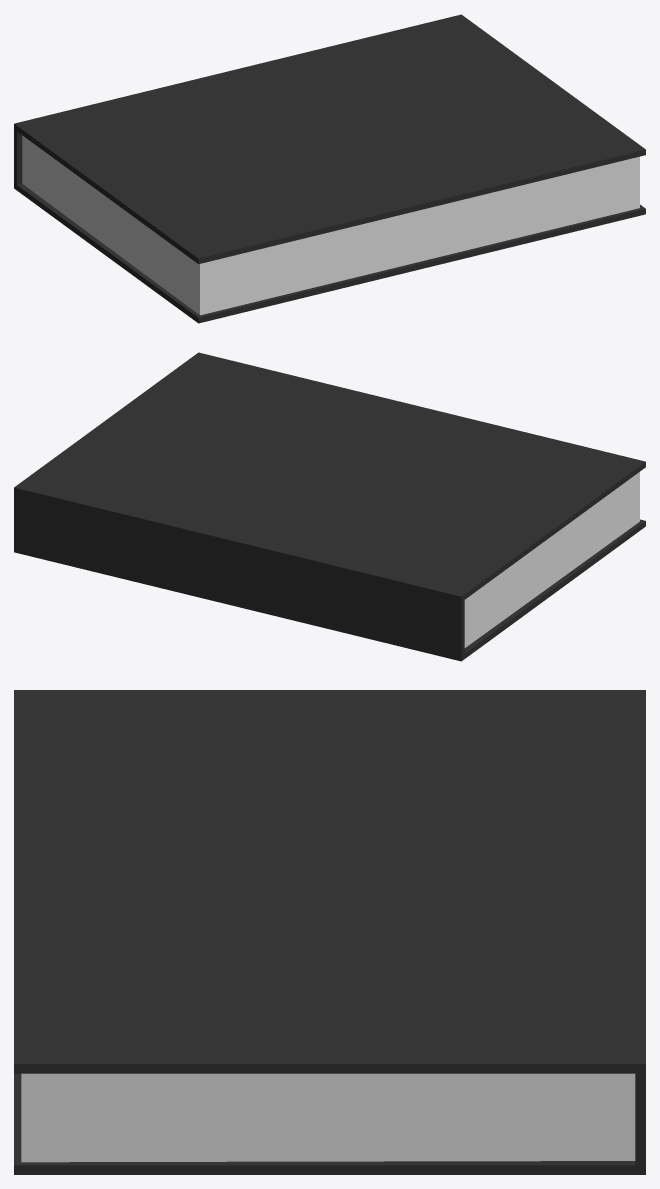
Rendered from ThrowProp_BookMediumGrey.FBX.
3 views of the same model, one above another, from view 1: azimuth 30°, elevation 25°; view 2: azimuth 150°, elevation 25°; view 3: azimuth 270°, elevation 25° (orthographic). The views are drawn at different scales.
Parts seen in each view (by area): view 1: Book_MediumGrey; view 2: Book_MediumGrey; view 3: Book_MediumGrey.
Boxes of the visible parts, bbox=[...] form: Book_MediumGrey: bbox=[14, 14, 645, 323]; Book_MediumGrey: bbox=[14, 352, 645, 661]; Book_MediumGrey: bbox=[14, 690, 645, 1174].
Size of the model in its own units: 19.15 by 2.65 by 13.68.
1 material, 1 textured.
